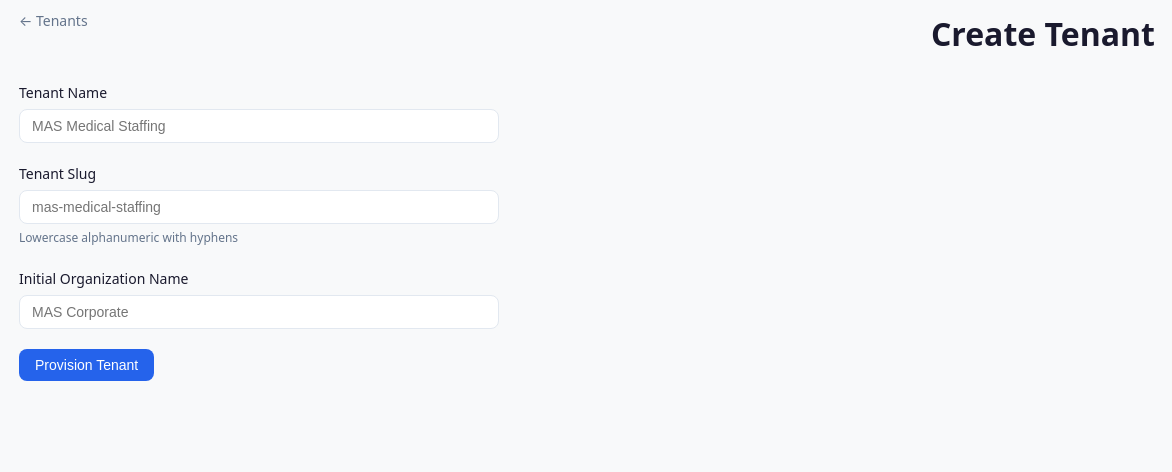
Scenario: CreateTenant › should display error message on failure
Type "T" into the field labelled "Tenant Name".
click(259, 126); type("T")  # box [19, 109, 499, 143]
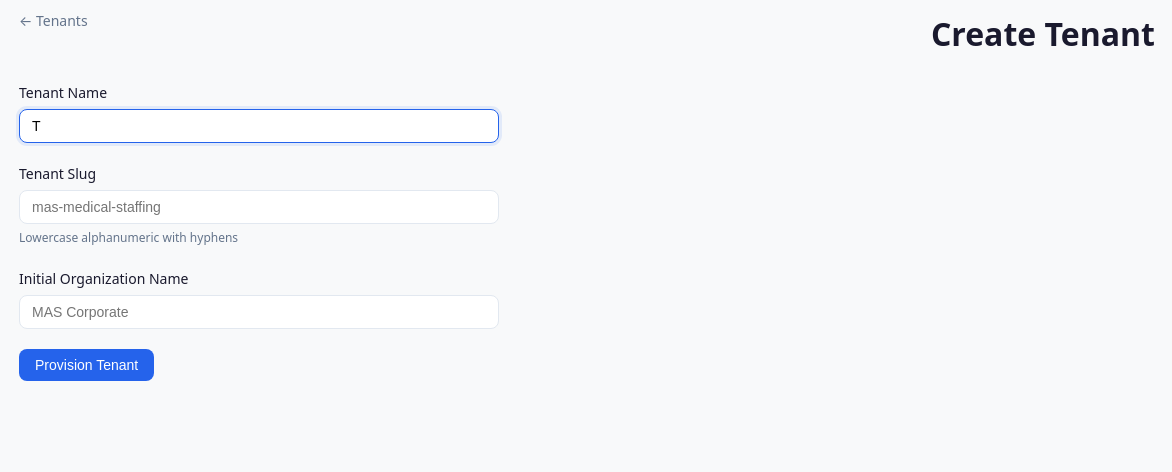
Type "existing" into the field labelled "Tenant Slug".
click(259, 207); type("existing")  # box [19, 190, 499, 224]
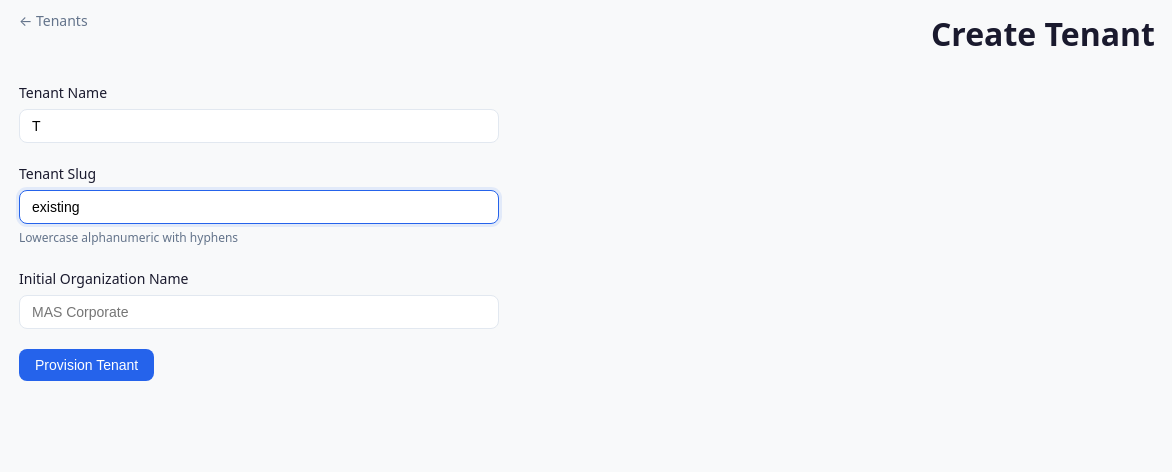
Type "O" into the field labelled "Initial Organization Name".
click(259, 312); type("O")  # box [19, 295, 499, 329]
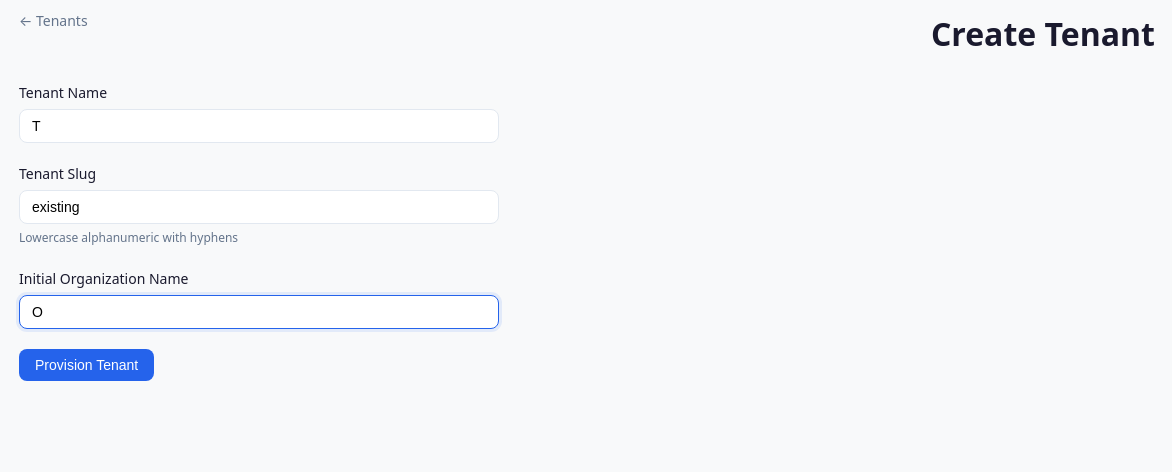
Click the button "Provision Tenant".
click(87, 365)  # box [19, 349, 154, 381]
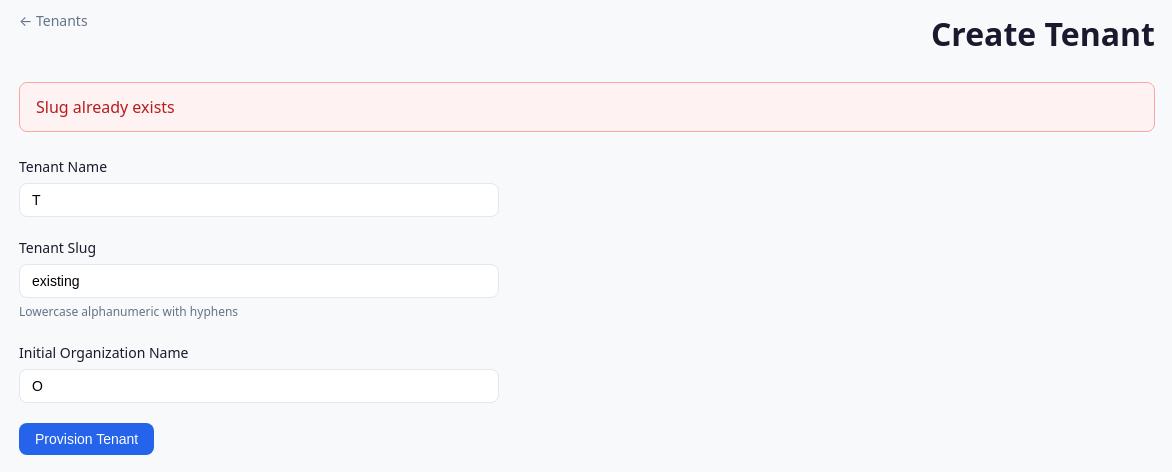
Expected: the message "Slug already exists" is shown, [19, 82, 1155, 132]
Expected: the text "Slug already exists" is shown, [36, 96, 175, 118]
